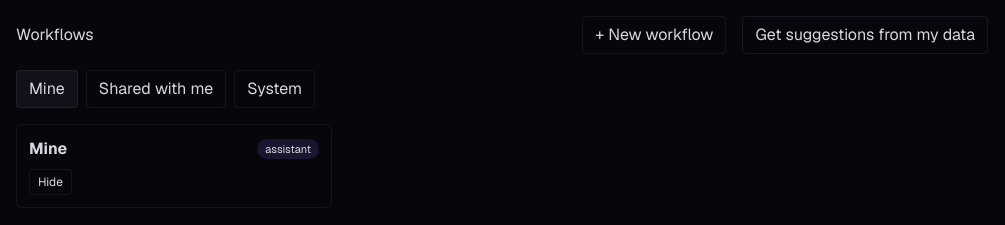
Test: WorkflowsList › switches scope tabs and refetches
Expected: the list item with test id "admin-workflow-card-1" is shown, [16,124,332,208]
Click the button with test id "admin-workflows-scope-system" at [275, 89], box [234,70,315,108]
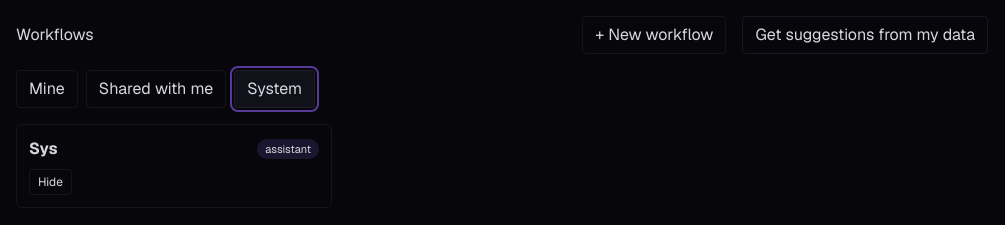
Result: the list item with test id "admin-workflow-card-99" is shown at [16,124,332,208]
Result: the list item with test id "admin-workflow-card-1" is gone
